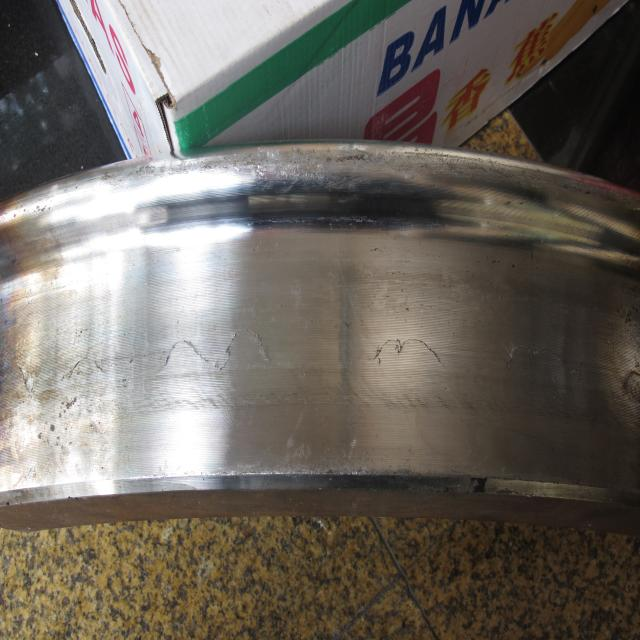Contact_Fatigue_Cracks: (167, 329, 275, 371), (504, 339, 564, 380), (374, 336, 443, 368), (67, 356, 114, 385), (620, 369, 640, 386)
